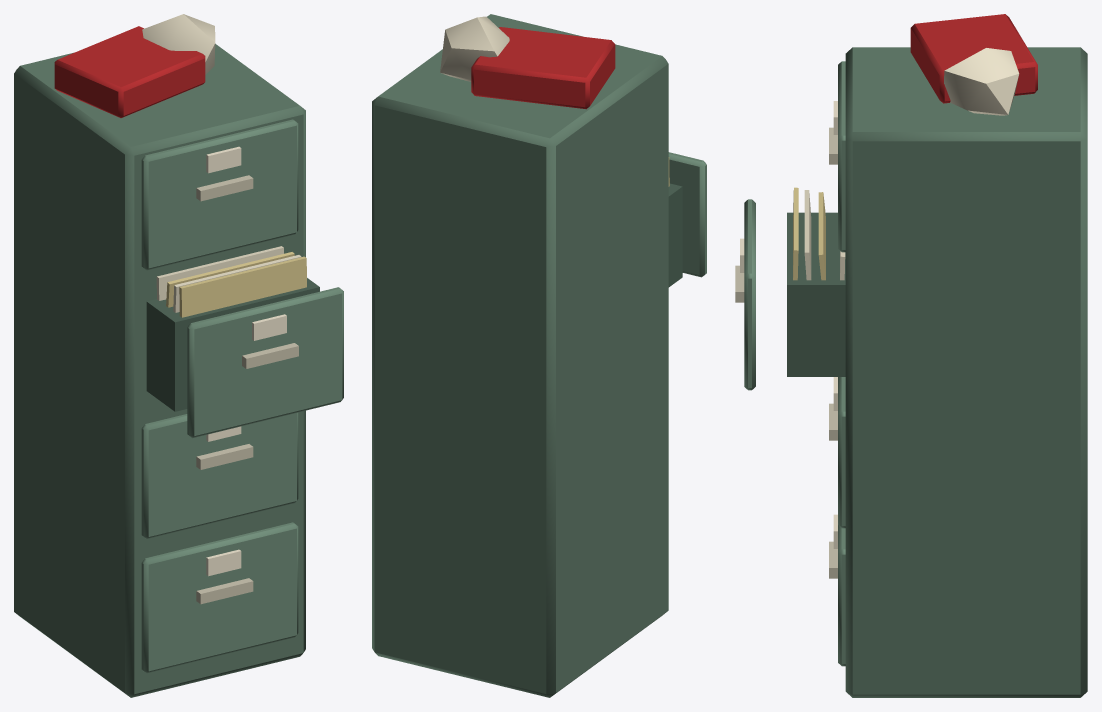
Rendered from filing_block.glb.
3 views of the same model, side by side, from view 1: azimuth 30°, elevation 25°; view 2: azimuth 150°, elevation 25°; view 3: azimuth 270°, elevation 25° (orthographic). The views are drawn at different scales.
Visible parts, largest first — view 1: filing; view 2: filing; view 3: filing.
Boxes of the visible parts, x1,y1,x2,y2 form: filing: (14, 14, 343, 697); filing: (372, 14, 706, 697); filing: (735, 14, 1087, 697).
Bounding box in the file's own units: 0.55 × 1.76 × 0.9025.
